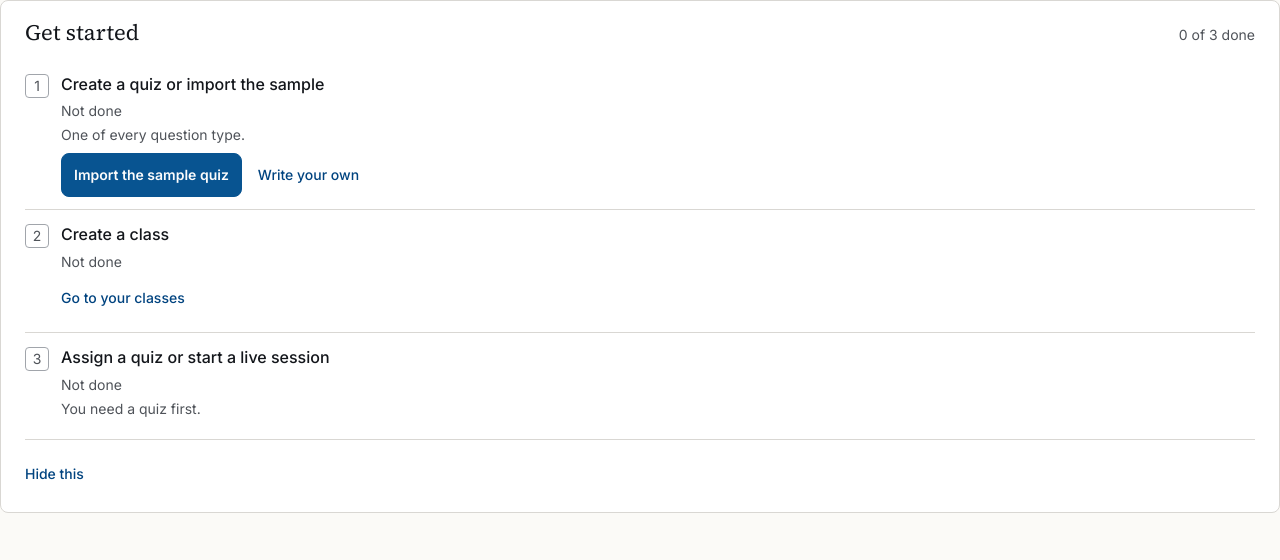
Test: GetStarted › announces an import that failed
Click the button "Import the sample quiz" at (151, 175), box [61,153,242,197]
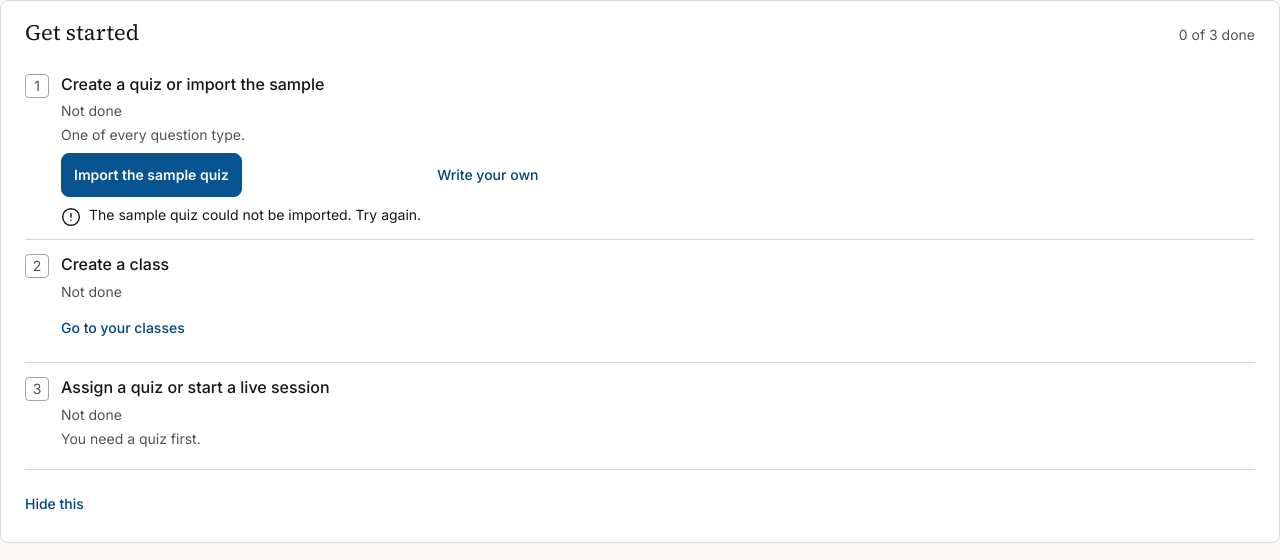
expect the message shows "could not be imported": met, box [89,206,421,223]
